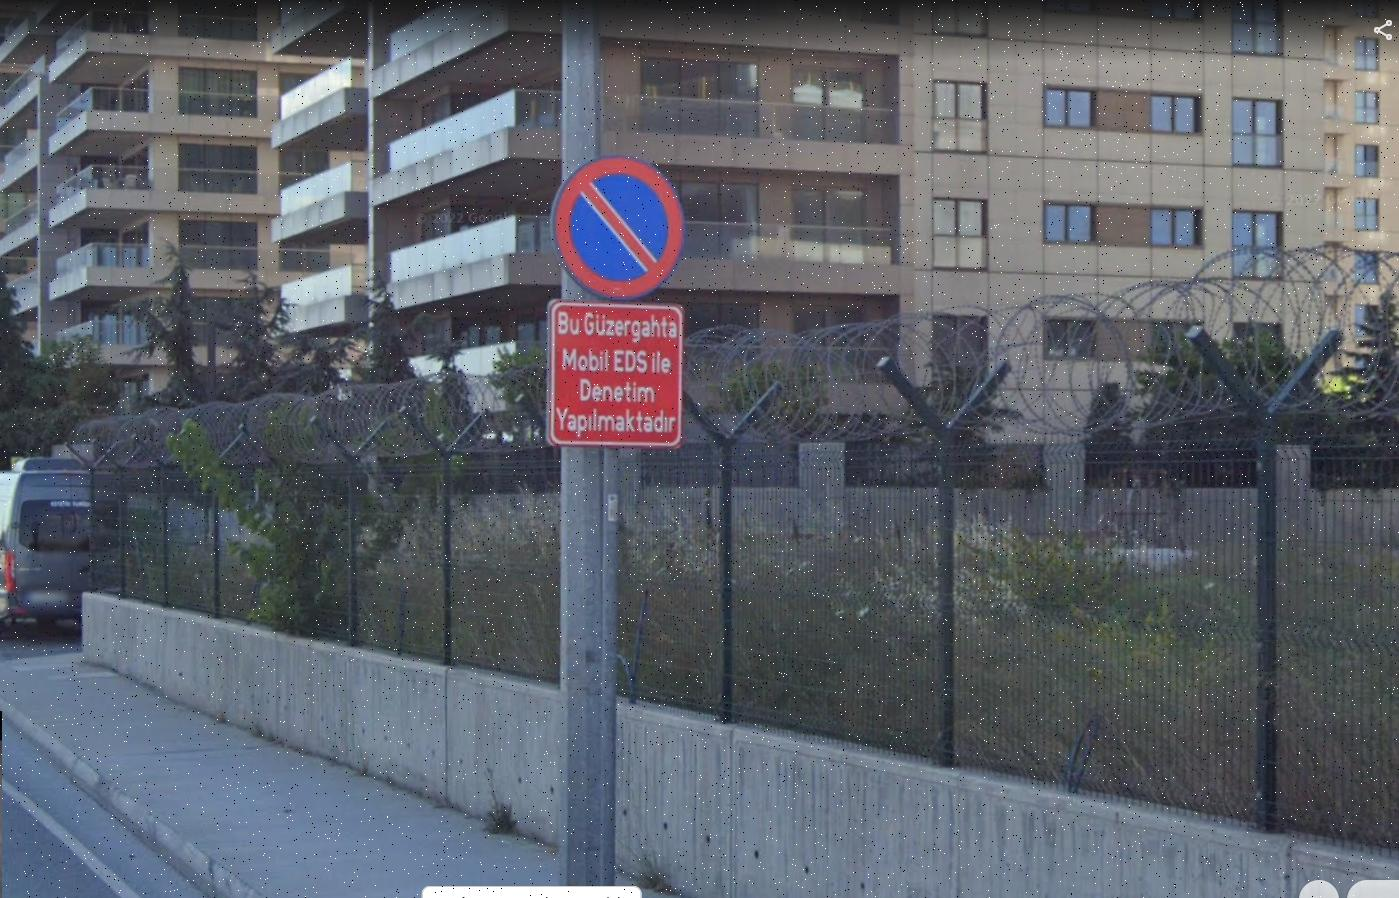nopark: (553, 158, 679, 293)
